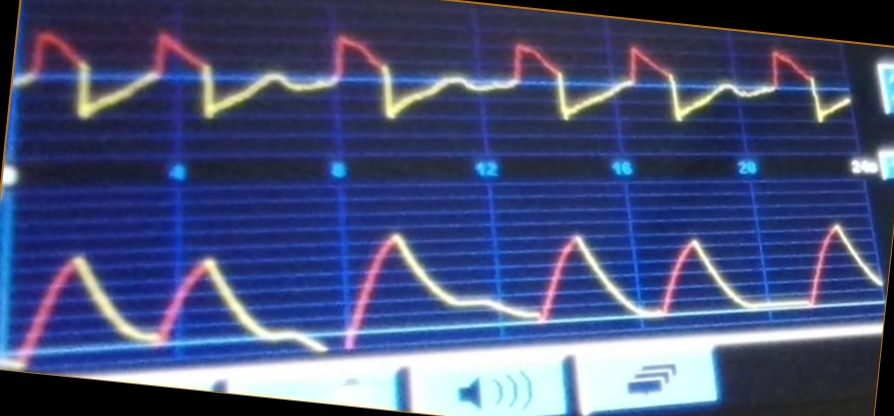Ineffective_effort Flow: (19, 28, 852, 131)
Ineffective_effort Volume: (13, 218, 880, 353)
